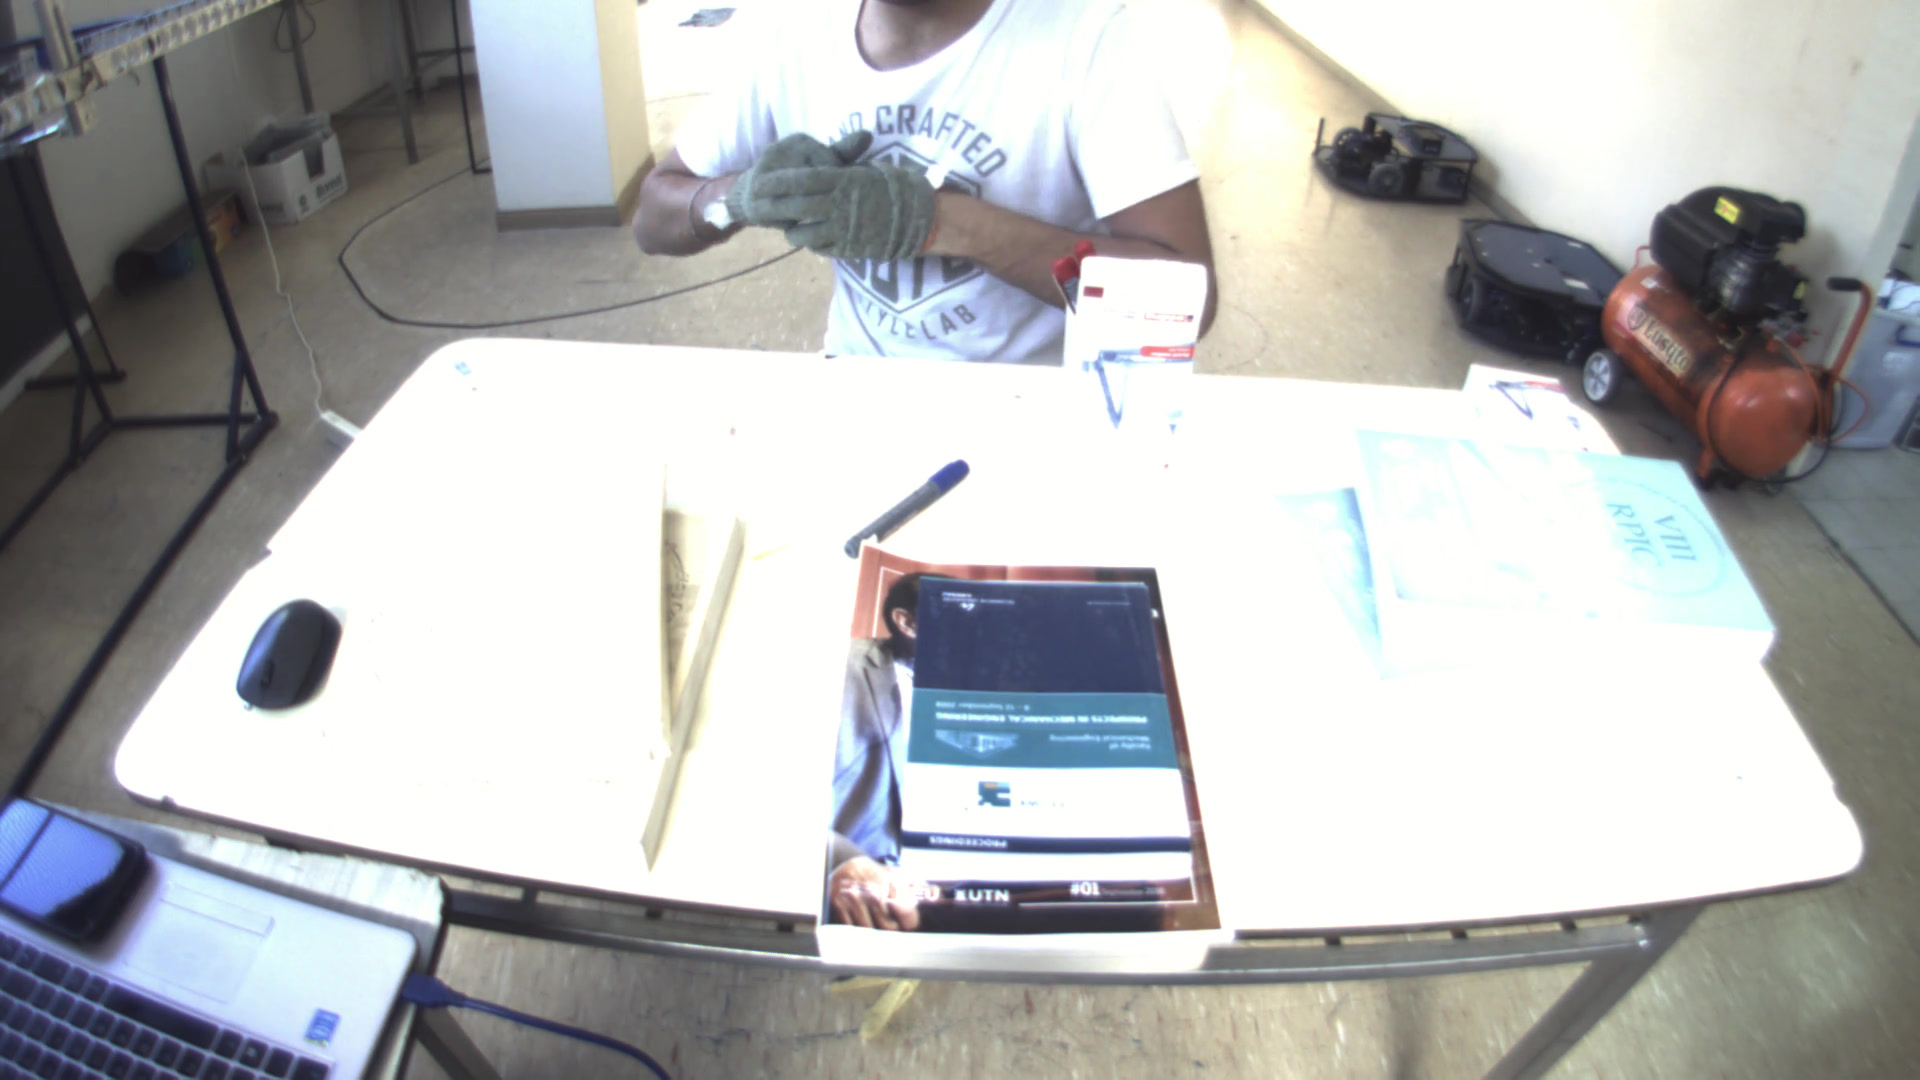hand: (740, 150, 939, 268)
